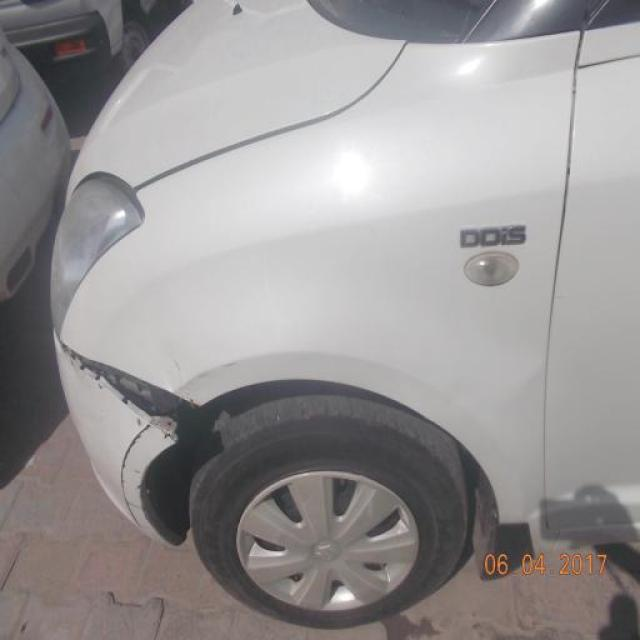Car-Damage: (58, 336, 201, 448), (117, 417, 157, 531)
